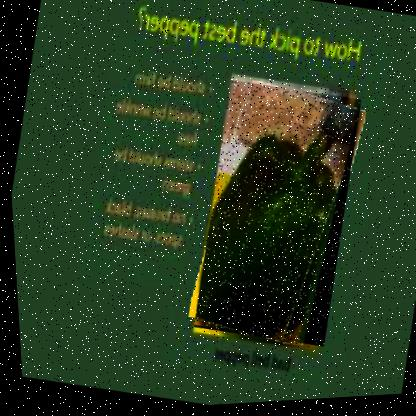capsicum_rotten: (176, 75, 369, 356)
